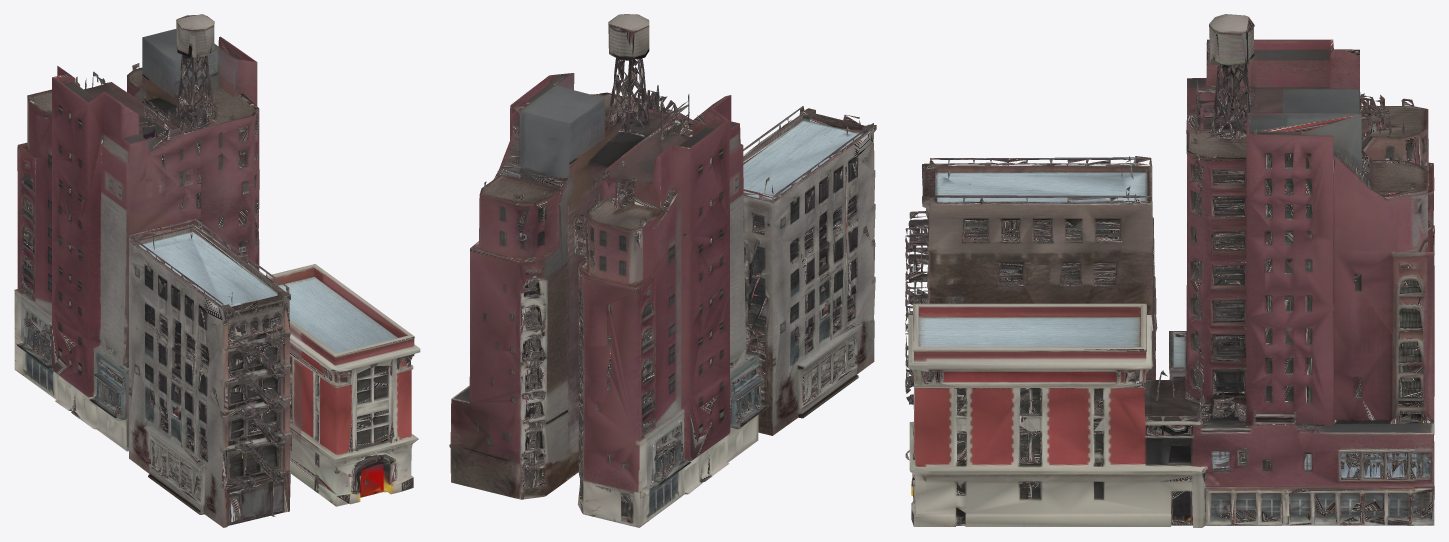
3 views of the same model, side by side, from view 1: azimuth 30°, elevation 25°; view 2: azimuth 150°, elevation 25°; view 3: azimuth 270°, elevation 25° (orthographic). The views are drawn at different scales.
Parts seen in each view (by area): view 1: mesh_node; view 2: mesh_node; view 3: mesh_node.
Boxes of the visible parts, x1=… form: mesh_node: x1=14, y1=14, x2=420, y2=527; mesh_node: x1=449, y1=14, x2=876, y2=527; mesh_node: x1=905, y1=14, x2=1434, y2=527.
Size of the model in its own units: 0.951 by 1.82 by 1.89.
1 material, 1 textured.
